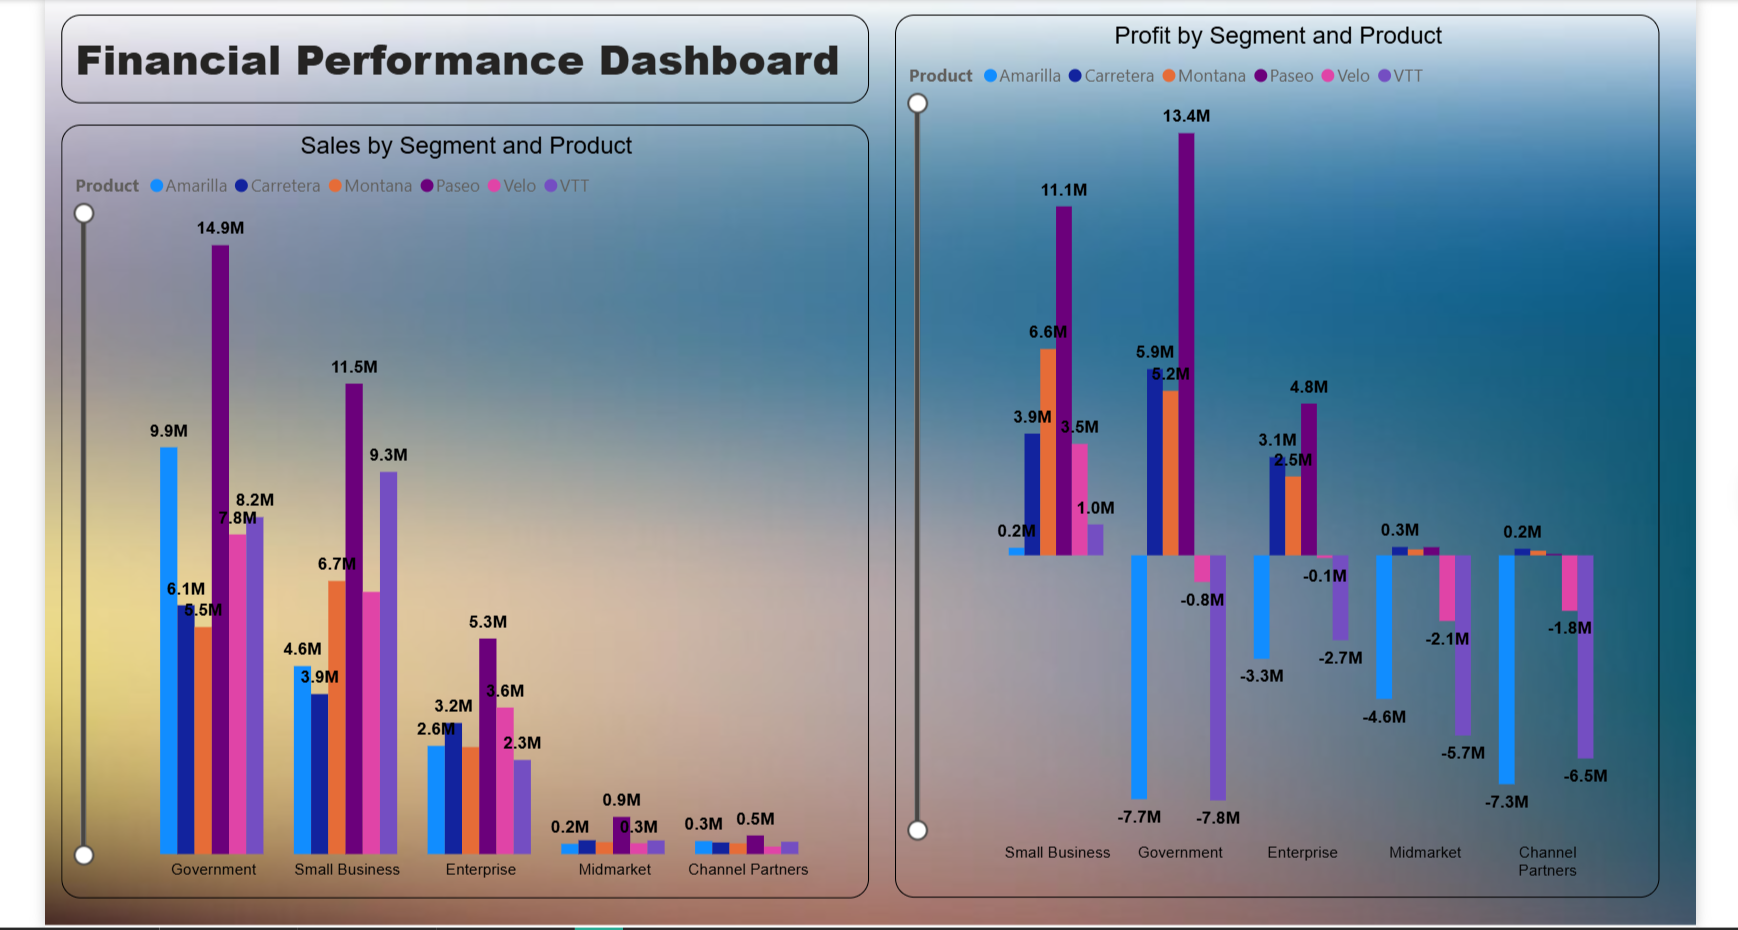

The page's visual inventory and layout, read from the dashboard file:
{"tool":"powerbi","page":{"name":"Dashboard_2","canvas":[1280,720],"ordinal":1},"visuals":[{"type":"clusteredColumnChart","title":" Sales by Segment and Product","fields":{"Category":["Cleaned_Data.Segment"],"Y":["Sum(Cleaned_Data. Sales)"],"Series":["Cleaned_Data.Product"]},"box":[12.8,96.5,626.7,600],"z":0},{"type":"clusteredColumnChart","title":"Profit by Segment and Product","fields":{"Category":["Cleaned_Data.Segment"],"Series":["Cleaned_Data.Product"],"Y":["Sum(Cleaned_Data.Profit)"]},"box":[659.3,11.6,593,684.9],"z":1000},{"type":"textbox","box":[12.8,11.6,626.7,68.6],"z":2000}]}

Visuals, with their boxes in screenshot pixels (x1, y1, x2, y2):
" Sales by Segment and Product" clusteredColumnChart: [58, 123, 883, 913]
"Profit by Segment and Product" clusteredColumnChart: [909, 11, 1691, 913]
textbox: [58, 11, 883, 101]
